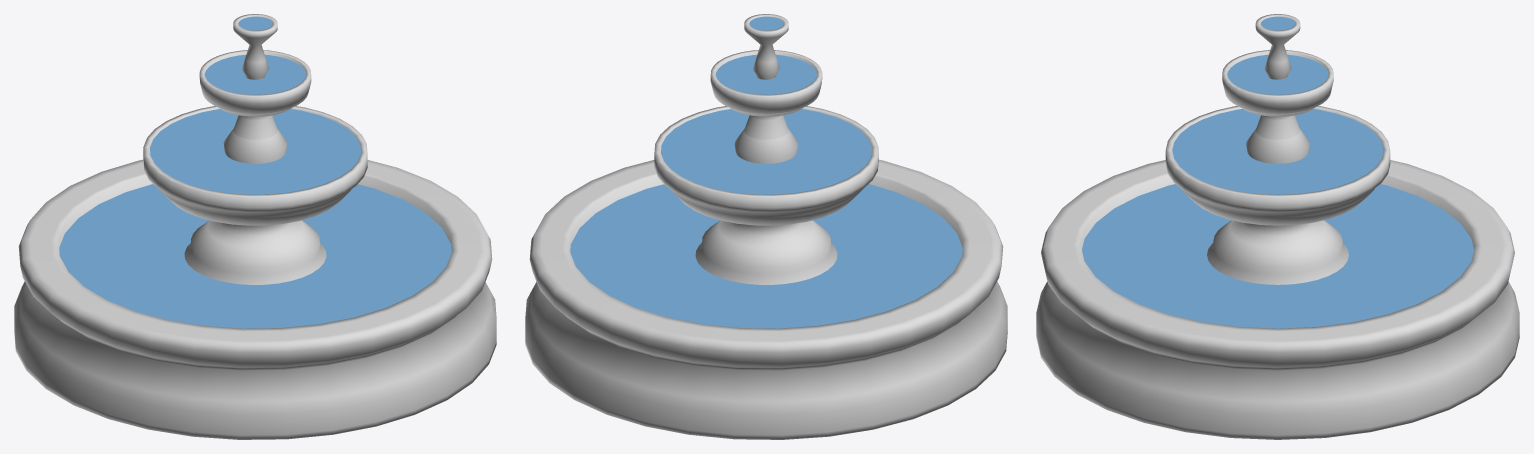
The model's file is Fountain.fbx.
3 views of the same model, side by side, from view 1: azimuth 30°, elevation 25°; view 2: azimuth 150°, elevation 25°; view 3: azimuth 270°, elevation 25° (orthographic).
Visible parts, largest first — view 1: Fountain, Water; view 2: Fountain, Water; view 3: Fountain, Water.
Part boxes in pixels (x1,y1,x2,y2): Fountain: (14,14,496,439); Water: (59,16,451,328); Fountain: (525,14,1007,439); Water: (570,16,962,328); Fountain: (1036,14,1519,439); Water: (1082,16,1473,328).
Size of the model in its own units: 459 by 330 by 459.
